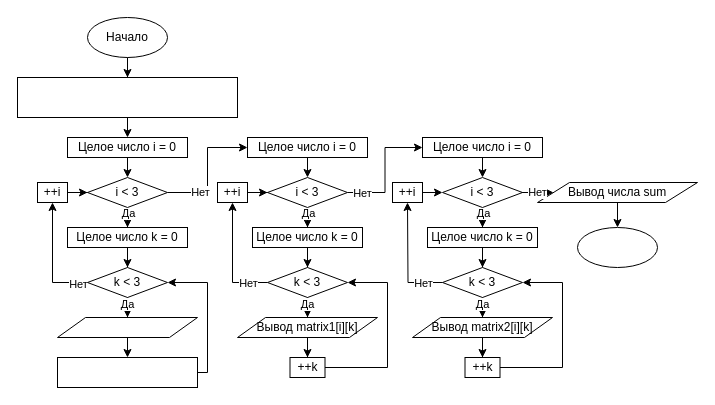
This 715x405 diagram has some shape labels left out. Each missing label, with the box of its shape:
matrix2[k][i] = matrix1[i][k] ++k: (56, 356, 198, 388)
Ввод matrix1[i][k]: (56, 316, 198, 338)
Конец: (576, 226, 658, 268)
Целочисленная матрица matrix1[3][3], Целочисленная матрица matrix2[3][3]: (16, 76, 238, 118)
